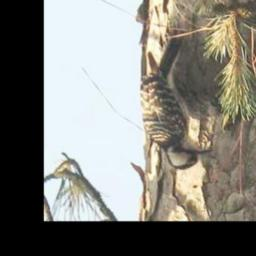Woodpecker: (139, 34, 214, 172)
